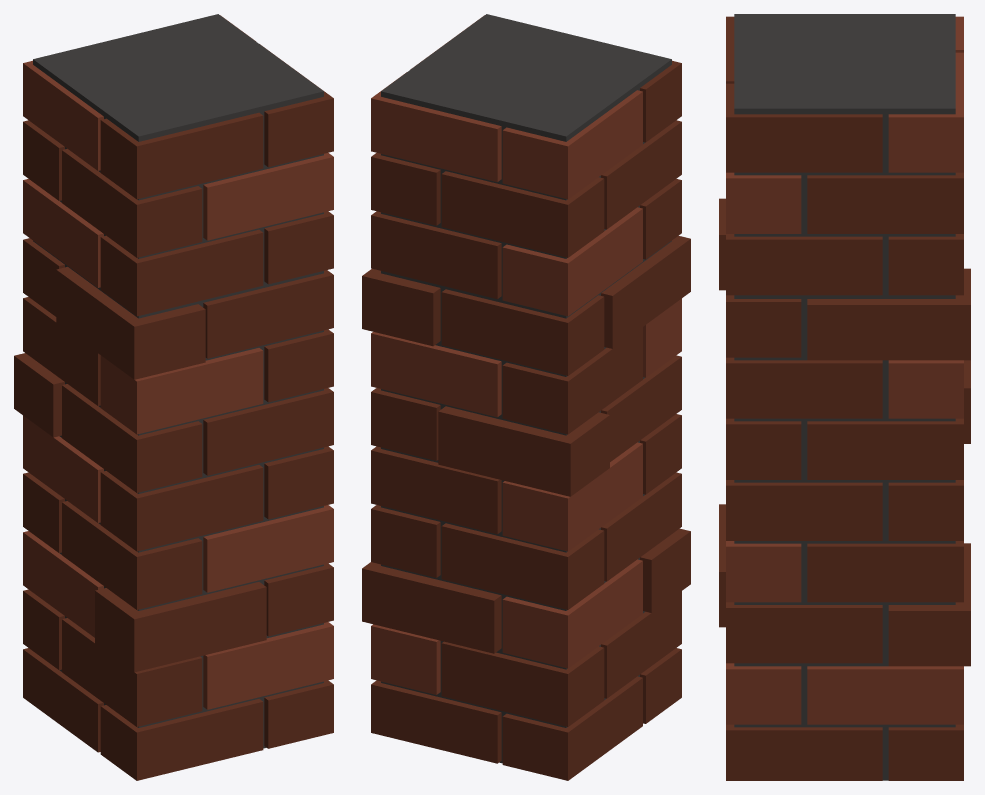
Rendered from SM_Pillar_Brick_Mini_Build.glb.
3 views of the same model, side by side, from view 1: azimuth 30°, elevation 25°; view 2: azimuth 150°, elevation 25°; view 3: azimuth 270°, elevation 25° (orthographic). The views are drawn at different scales.
Parts seen in each view (by area): view 1: SM_Pillar_Brick_Mini_Build; view 2: SM_Pillar_Brick_Mini_Build; view 3: SM_Pillar_Brick_Mini_Build.
Part boxes in pixels (bbox=[...]): SM_Pillar_Brick_Mini_Build: bbox=[14, 14, 333, 780]; SM_Pillar_Brick_Mini_Build: bbox=[362, 14, 690, 780]; SM_Pillar_Brick_Mini_Build: bbox=[719, 14, 970, 780].
Size of the model in its own units: 0.4 by 1.18 by 0.4.
Materials: 1 (1 with a texture image).
